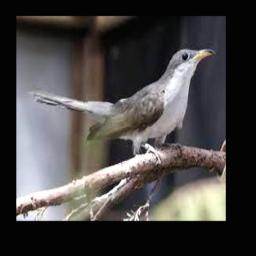Cuckoo: (28, 48, 215, 163)
